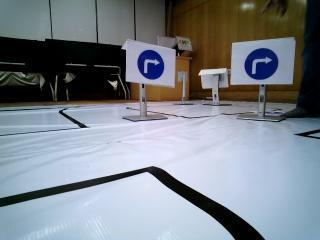right: (234, 45, 295, 87), (134, 46, 172, 87)
